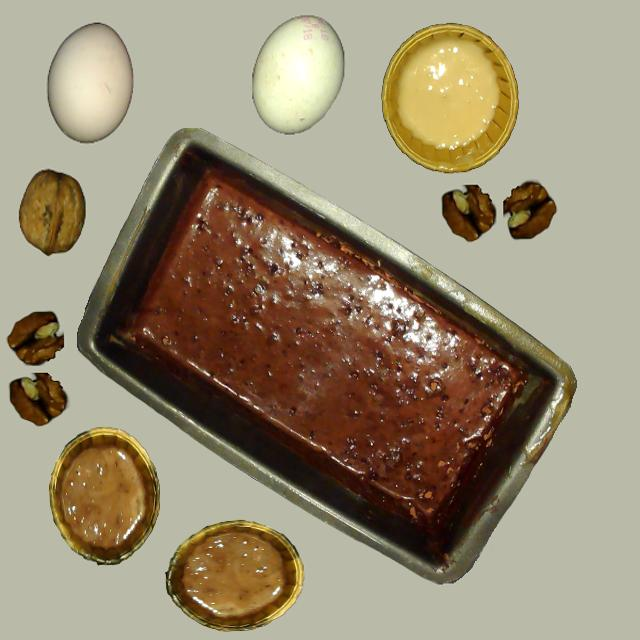Walnut: (6, 166, 72, 252)
